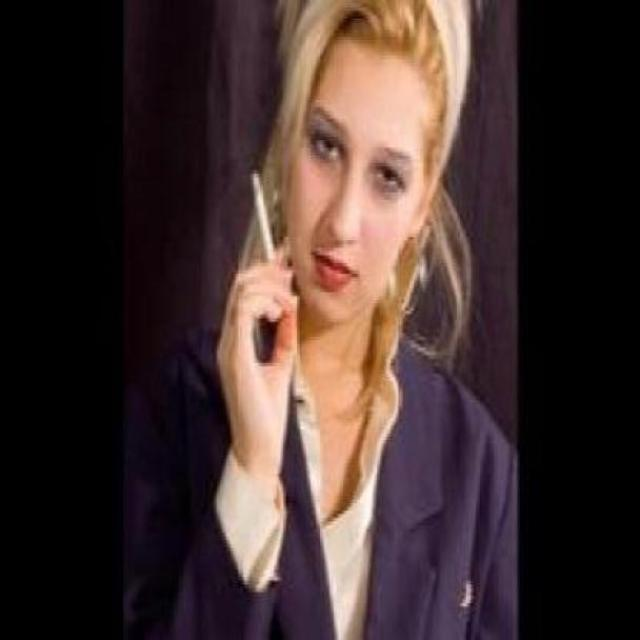rokok: (248, 167, 278, 266)
